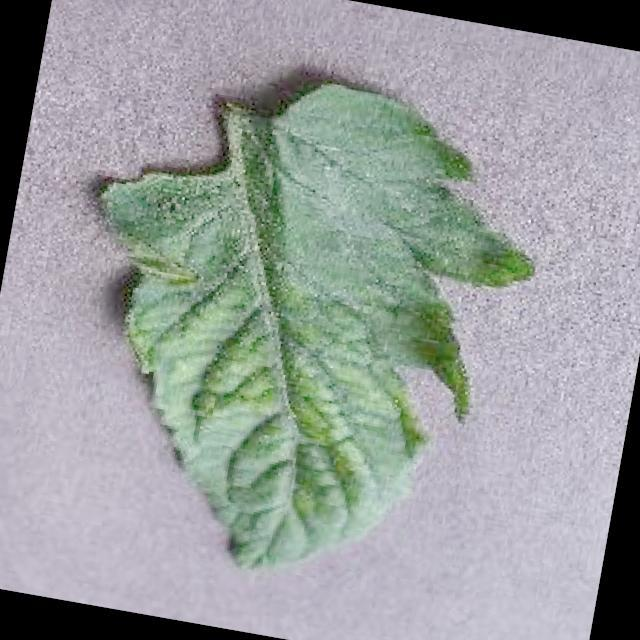Tomato mosaic virus leaf: (34, 38, 572, 623)
